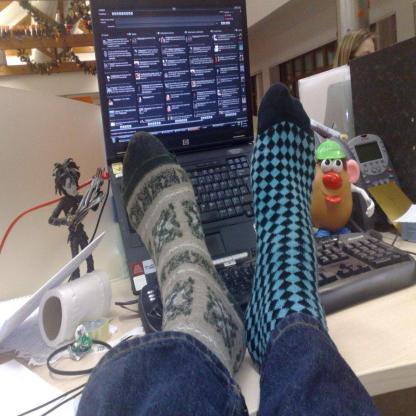board: (89, 0, 255, 295), (299, 64, 357, 136)
